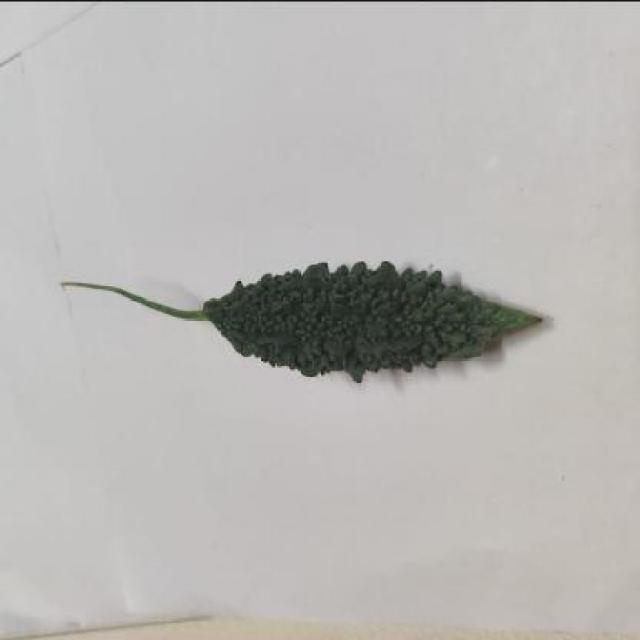Bitter melon: (132, 232, 554, 408)
